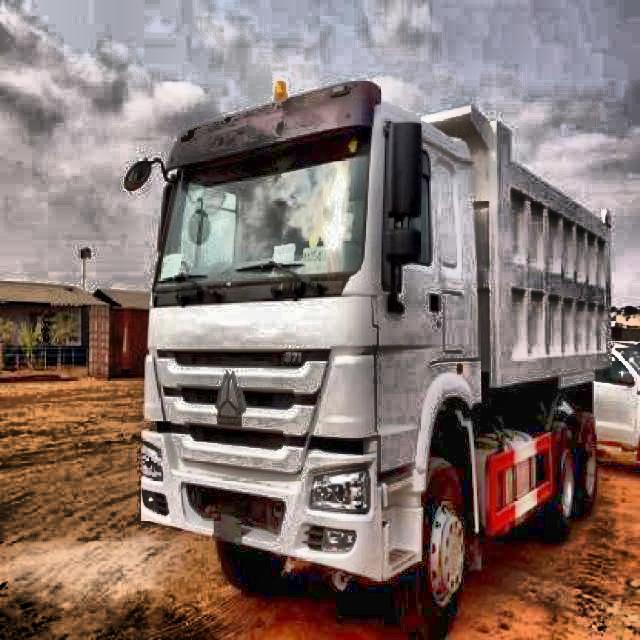dump_truck: (125, 83, 618, 632)
